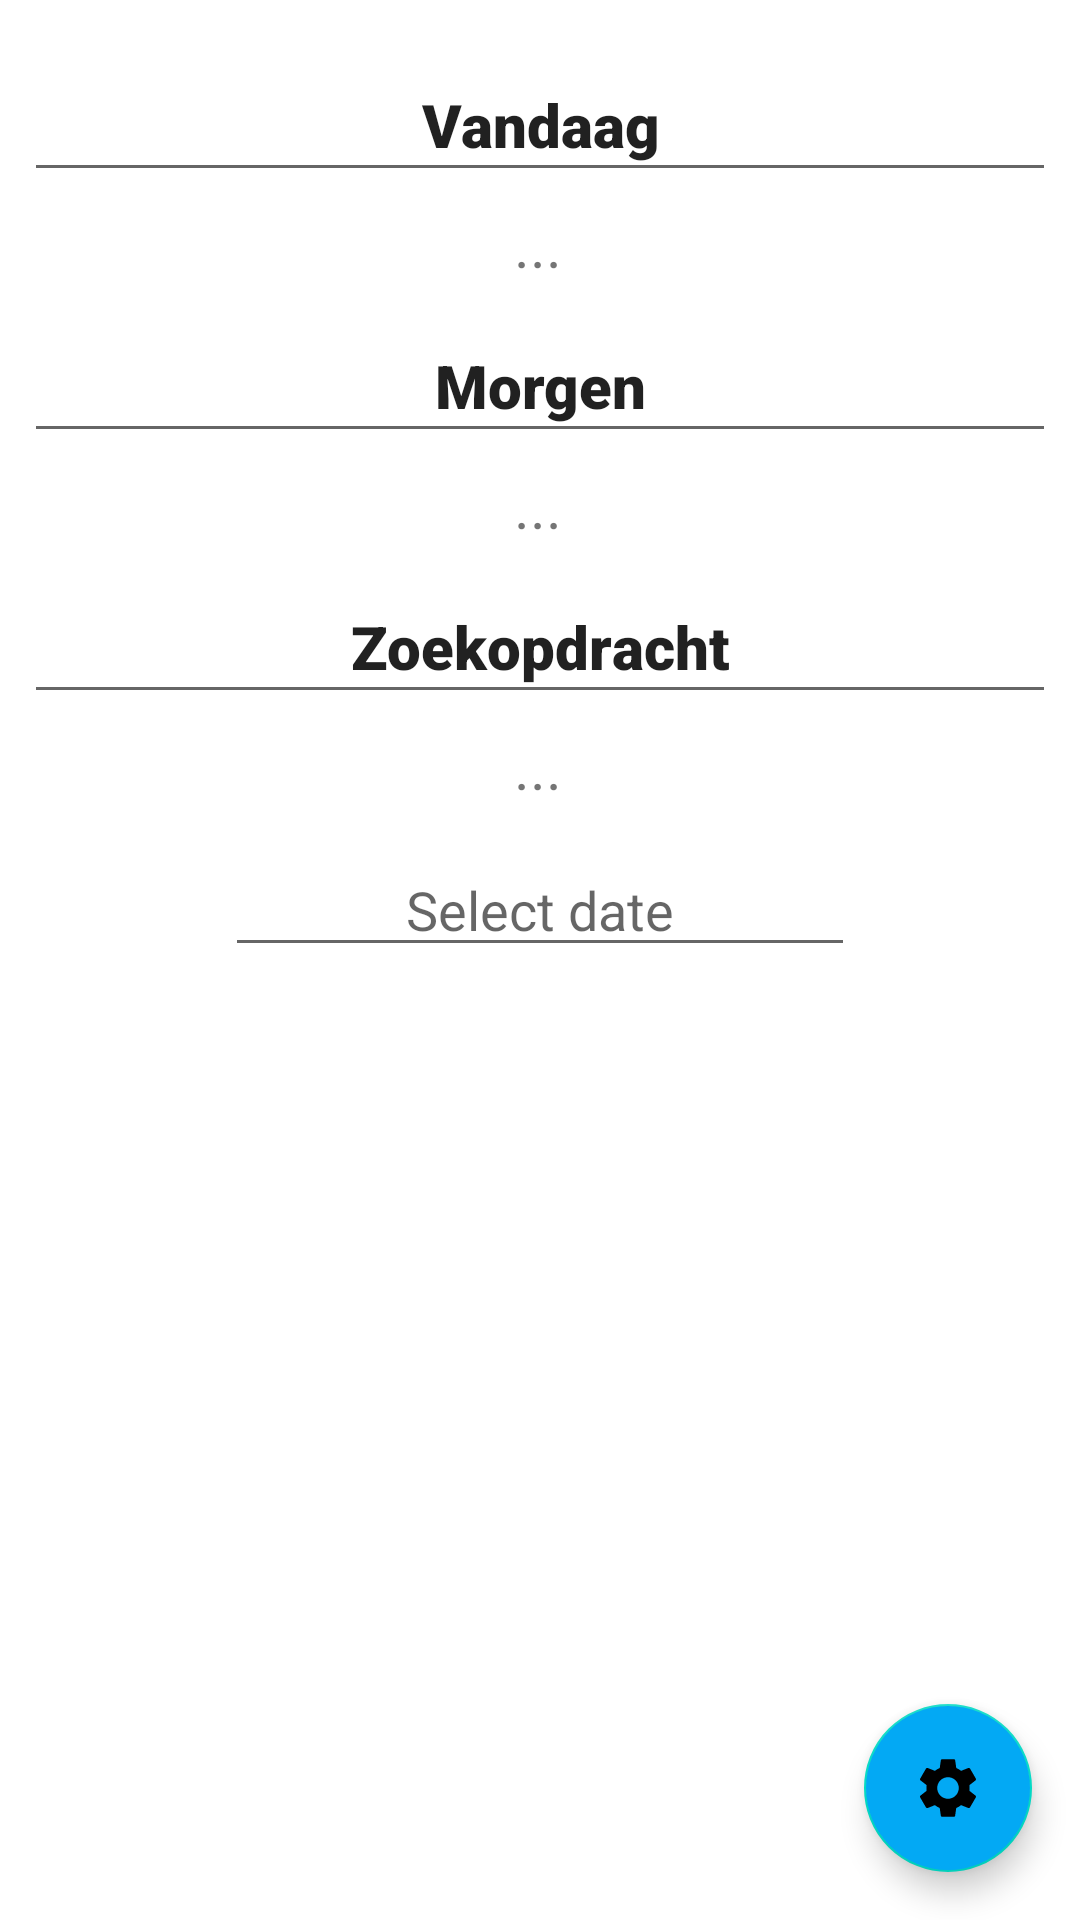

Point at icon controls on the screen. Image size 1080 × 1920, points as (x,y).
settings: (948,1788)
